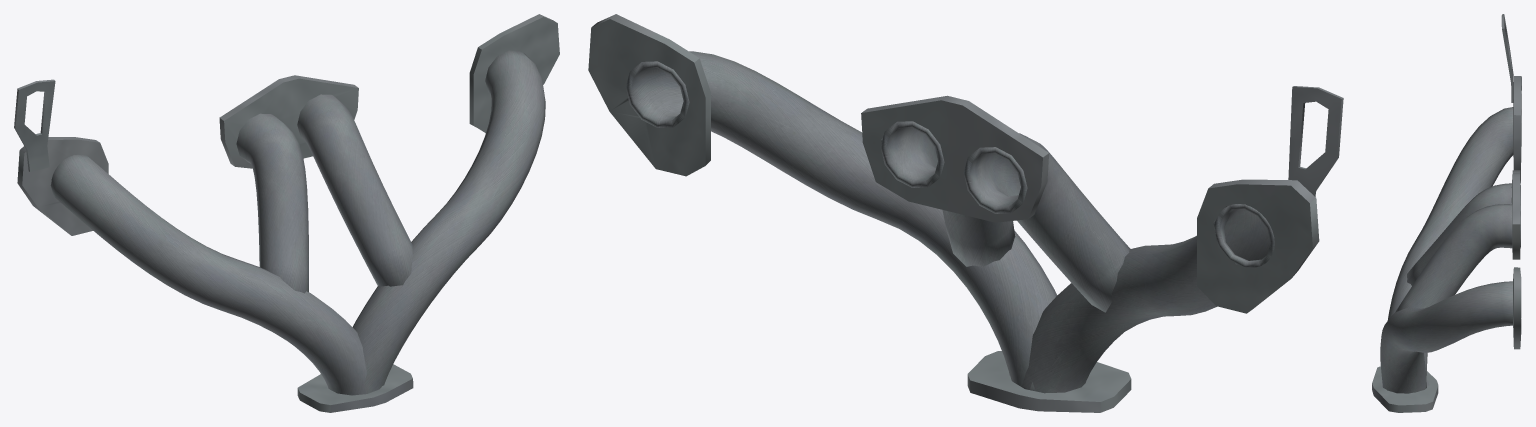
The model's file is TurboCharger_Headers.obj.
The picture shows the model from 3 angles, left to right: view 1: azimuth 30°, elevation 25°; view 2: azimuth 150°, elevation 25°; view 3: azimuth 270°, elevation 25°; orthographic projection. The views are drawn at different scales.
Parts seen in each view (by area): view 1: Header-Tubes_BezierCurve.013, Header-Connector-Cylinder_motor_racing_exhaust_manifold_001-shar, Header-Connector_motor_racing_exhaust_manifold_001-sharedassets3; view 2: Header-Tubes_BezierCurve.013, Header-Connector-Cylinder_motor_racing_exhaust_manifold_001-shar, Header-Connector_motor_racing_exhaust_manifold_001-sharedassets3; view 3: Header-Tubes_BezierCurve.013, Header-Connector-Cylinder_motor_racing_exhaust_manifold_001-shar, Header-Connector_motor_racing_exhaust_manifold_001-sharedassets3.
Boxes of the visible parts, left/top/right/bottom form: Header-Tubes_BezierCurve.013: left=50, top=50, right=545, bottom=395; Header-Connector-Cylinder_motor_racing_exhaust_manifold_001-shar: left=14, top=14, right=559, bottom=235; Header-Connector_motor_racing_exhaust_manifold_001-sharedassets3: left=297, top=364, right=413, bottom=412; Header-Tubes_BezierCurve.013: left=625, top=51, right=1274, bottom=393; Header-Connector-Cylinder_motor_racing_exhaust_manifold_001-shar: left=588, top=14, right=1343, bottom=313; Header-Connector_motor_racing_exhaust_manifold_001-sharedassets3: left=967, top=351, right=1131, bottom=412; Header-Tubes_BezierCurve.013: left=1380, top=107, right=1521, bottom=393; Header-Connector-Cylinder_motor_racing_exhaust_manifold_001-shar: left=1501, top=14, right=1521, bottom=349; Header-Connector_motor_racing_exhaust_manifold_001-sharedassets3: left=1372, top=366, right=1438, bottom=412.
Size of the model in its own units: 0.3719 by 0.2145 by 0.1076.
